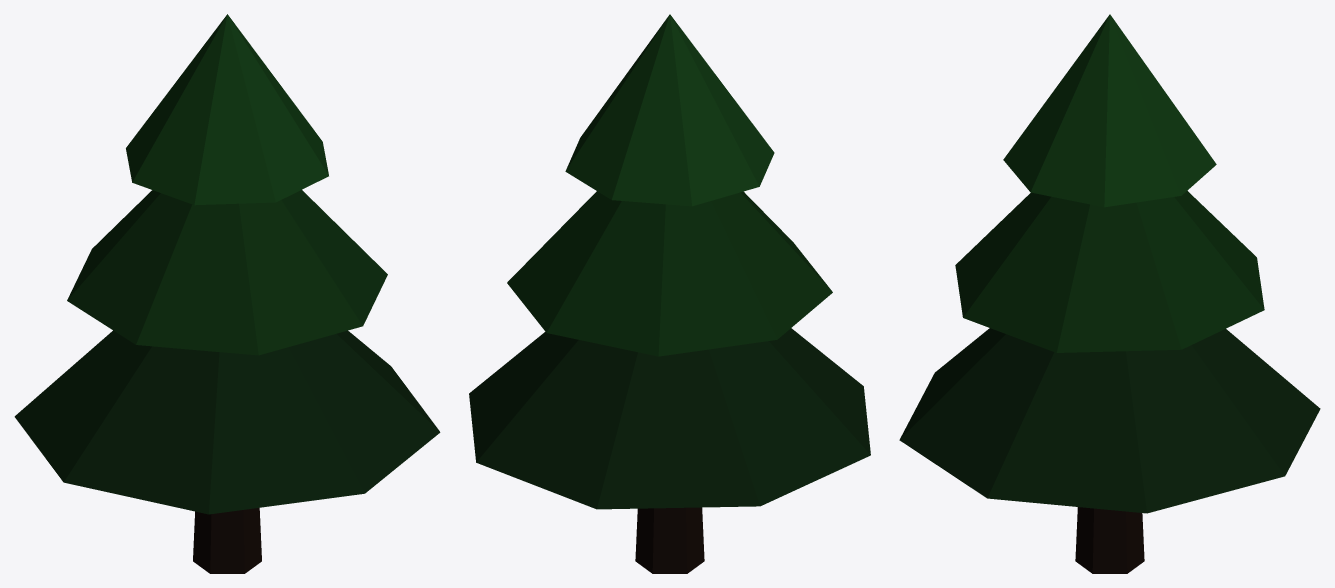
The model's file is tree_lowpoly.glb.
3 renders of one model, left to right at view 1: azimuth 30°, elevation 25°; view 2: azimuth 150°, elevation 25°; view 3: azimuth 270°, elevation 25°, orthographic.
Visible parts, largest first — view 1: tree_lowpoly; view 2: tree_lowpoly; view 3: tree_lowpoly.
Boxes of the visible parts, x1=… form: tree_lowpoly: x1=14, y1=14, x2=440, y2=573; tree_lowpoly: x1=469, y1=14, x2=870, y2=573; tree_lowpoly: x1=899, y1=14, x2=1320, y2=573.
Bounding box in the file's own units: 0.6697 × 0.96 × 0.6697.
